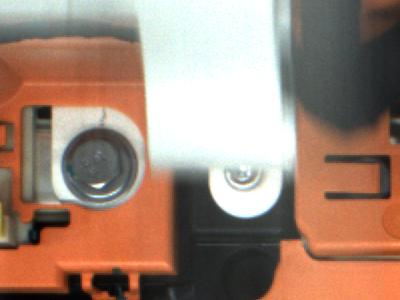nut_b: (52, 130, 137, 207)
